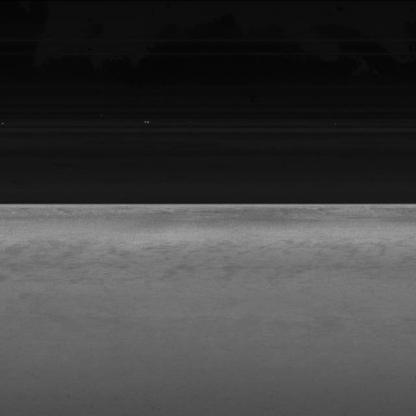silk_spot: (157, 234, 308, 275)
